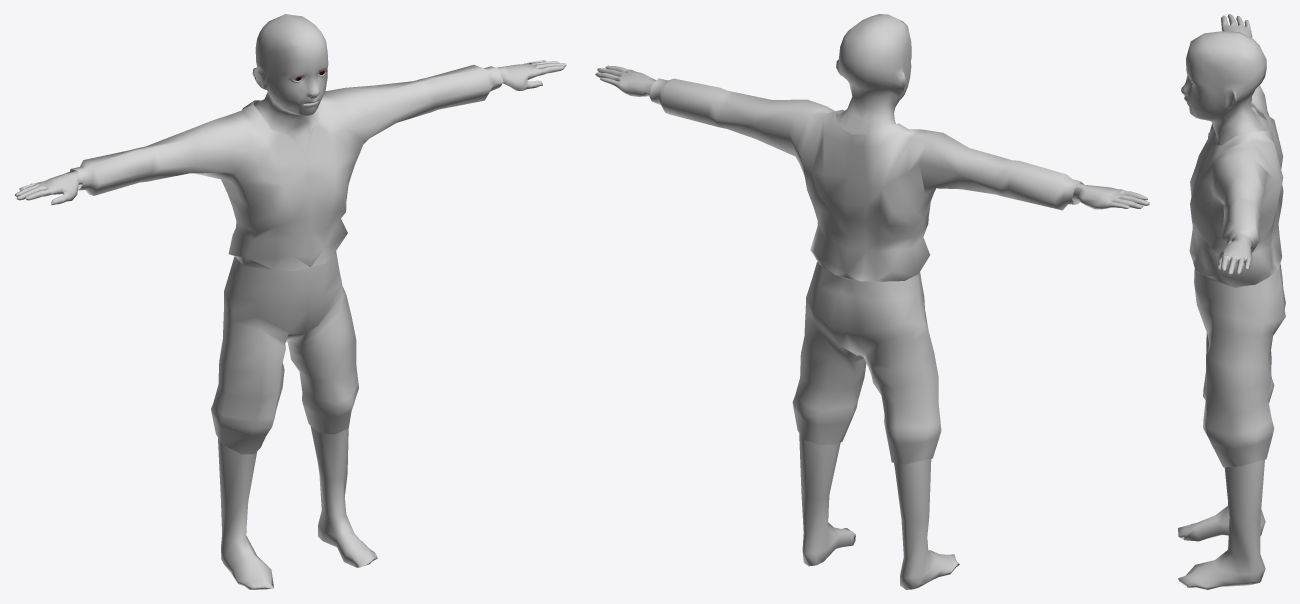
Rendered from Roupa.fbx.
3 renders of one model, left to right at view 1: azimuth 30°, elevation 25°; view 2: azimuth 150°, elevation 25°; view 3: azimuth 270°, elevation 25°, orthographic. The views are drawn at different scales.
Parts seen in each view (by area): view 1: Roupa, male1591Mesh; view 2: Roupa, male1591Mesh; view 3: Roupa, male1591Mesh.
Boxes of the visible parts, x1=… form: Roupa: x1=70, y1=65, x2=503, y2=454; male1591Mesh: x1=14, y1=14, x2=566, y2=589; Roupa: x1=649, y1=78, x2=1083, y2=464; male1591Mesh: x1=595, y1=14, x2=1149, y2=589; Roupa: x1=1189, y1=85, x2=1285, y2=467; male1591Mesh: x1=1178, y1=14, x2=1271, y2=589.
Bounding box in the file's own units: 513 × 485 × 90.03.
